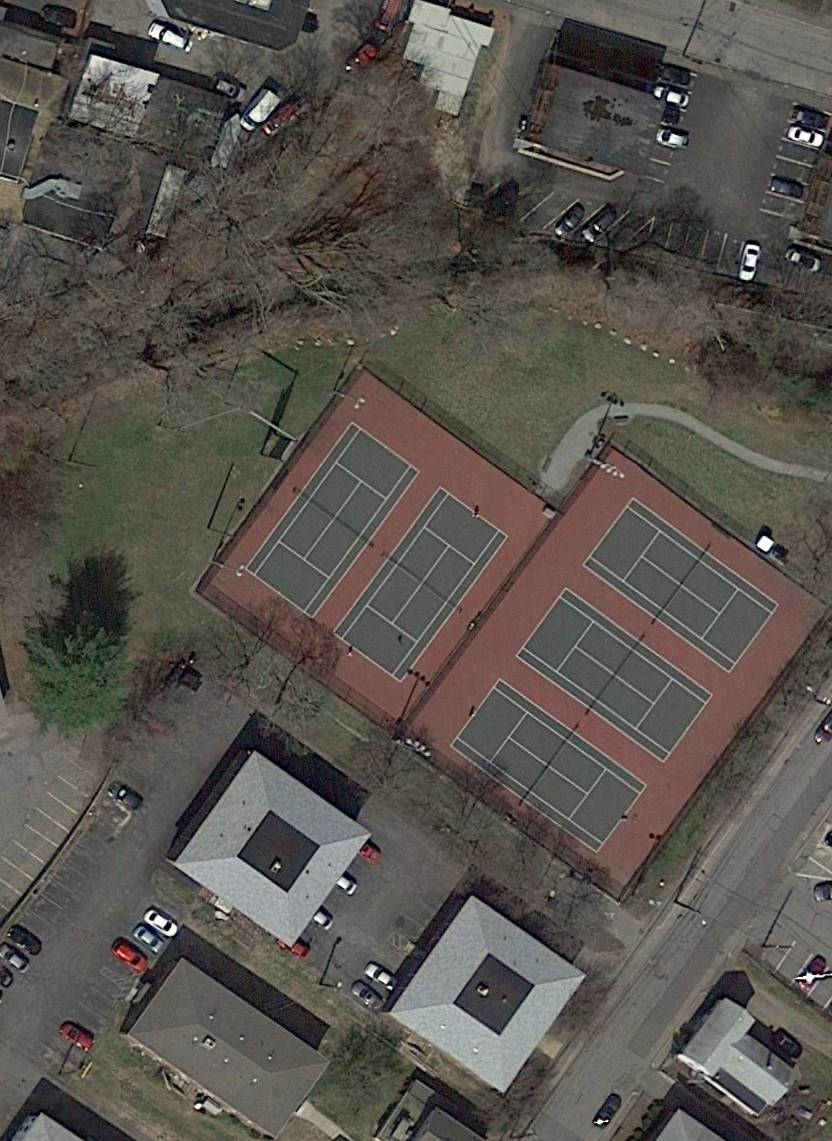small vehicle: (236, 85, 283, 135), (477, 179, 521, 222), (144, 21, 195, 56), (579, 205, 621, 246), (139, 904, 181, 944), (110, 936, 152, 976), (261, 101, 305, 139), (5, 921, 47, 960), (103, 777, 146, 814), (589, 1088, 625, 1132), (648, 82, 695, 114), (781, 243, 826, 276), (552, 202, 589, 242), (767, 1025, 807, 1062), (343, 39, 381, 77), (795, 953, 830, 993), (784, 121, 826, 153), (349, 976, 385, 1013), (58, 1019, 96, 1054), (788, 102, 831, 132), (207, 73, 250, 102), (765, 174, 808, 203), (130, 923, 166, 957), (735, 241, 764, 283), (655, 64, 699, 91), (363, 961, 399, 993), (655, 126, 692, 154), (1, 941, 29, 975)
tennis court: (516, 587, 714, 765), (331, 487, 510, 683), (450, 678, 648, 855), (246, 421, 422, 620), (583, 497, 778, 675)
